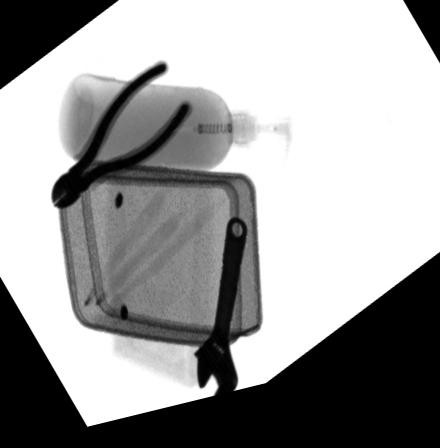Pliers: (50, 72, 195, 211)
Wrench: (192, 228, 249, 406)
